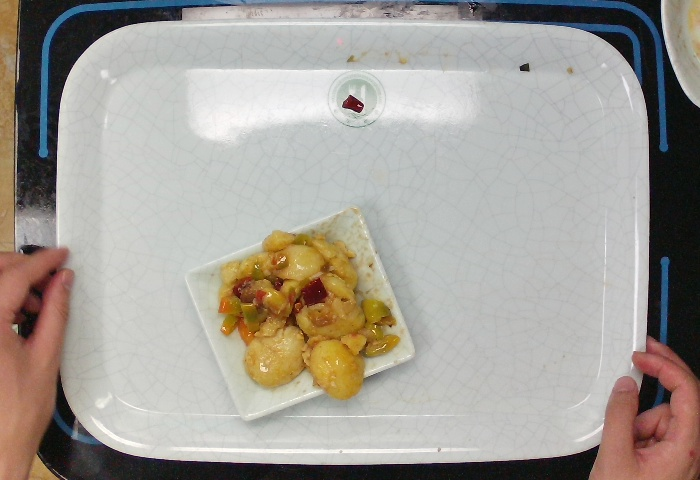WCQzf-Ru_Ci_Si_Fang_Die: (175, 200, 417, 431)
